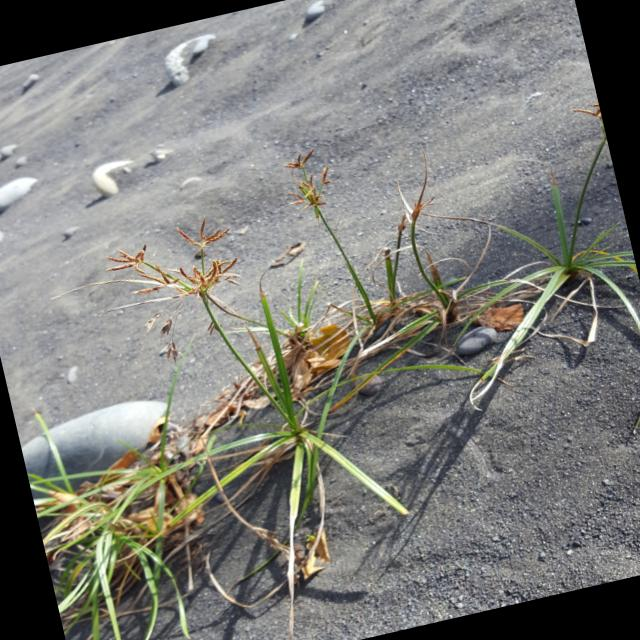cyperus: (93, 206, 257, 374), (271, 140, 342, 220), (566, 95, 604, 134)
